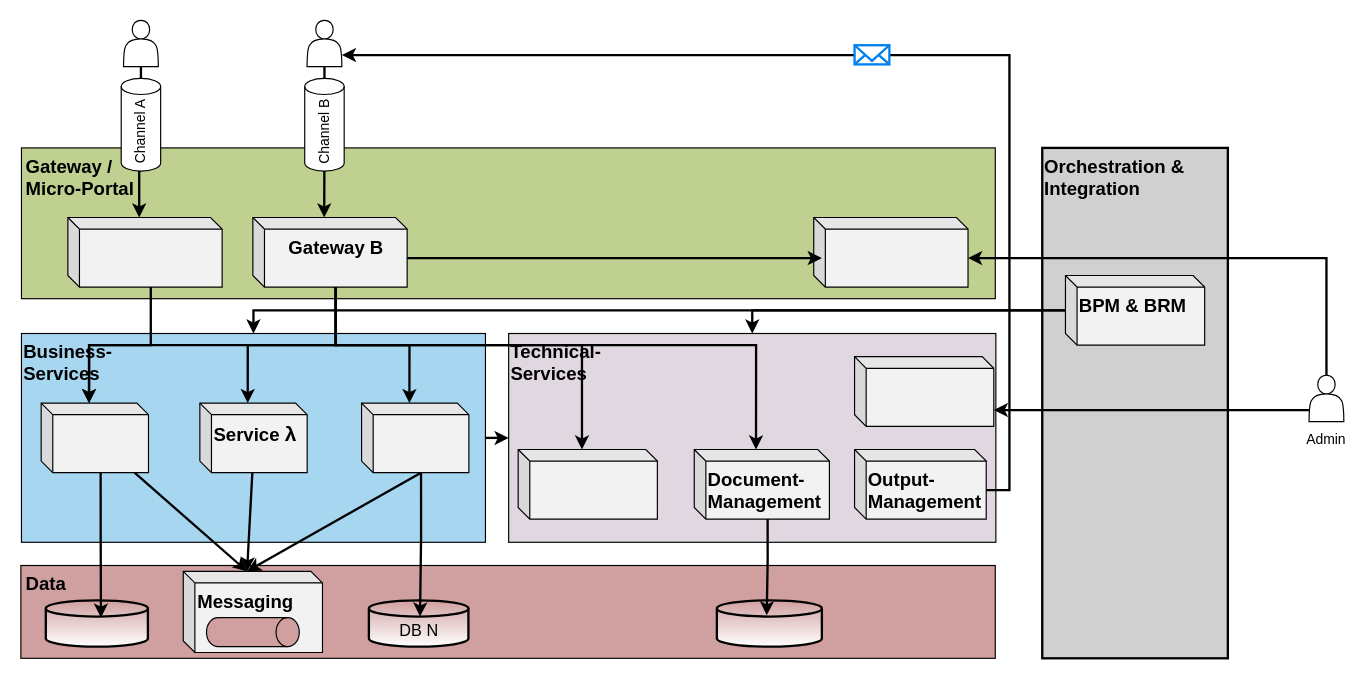
Some shapes in this 1365 by 680 pixel diagram are drawn without their labels. The centre of each missing label's shape, as x and y in pixels:
DB A: (96,623)
DB DMS: (768,623)
Gateway A: (144,251)
IAM: (890,251)
Input-Management: (587,483)
Monitoring: (923,391)
Service A: (94,437)
Service N: (414,437)
